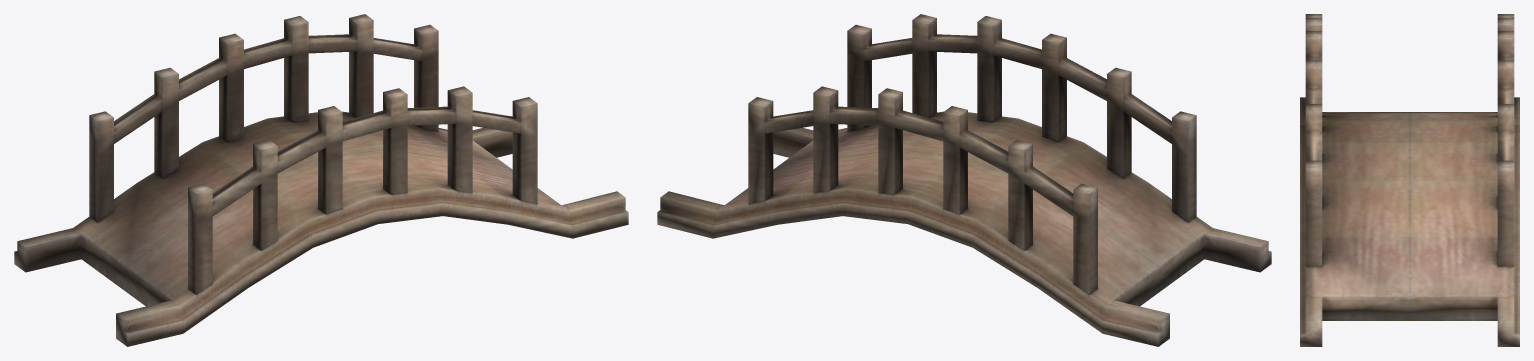
Rendered from bridge.glb.
3 renders of one model, left to right at view 1: azimuth 30°, elevation 25°; view 2: azimuth 150°, elevation 25°; view 3: azimuth 270°, elevation 25°, orthographic. The views are drawn at different scales.
Visible parts, largest first — view 1: 1.001; view 2: 1.001; view 3: 1.001.
Boxes of the visible parts, left/top/right/bottom form: 1.001: left=14, top=14, right=628, bottom=346; 1.001: left=657, top=14, right=1271, bottom=346; 1.001: left=1300, top=14, right=1519, bottom=346.
Size of the model in its own units: 4 by 1.39 by 1.56.
1 material, 1 textured.
